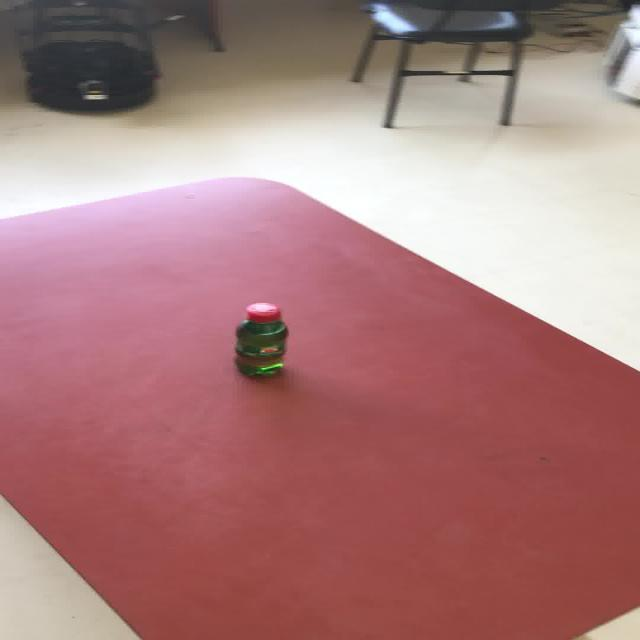guarana: (232, 301, 288, 377)
